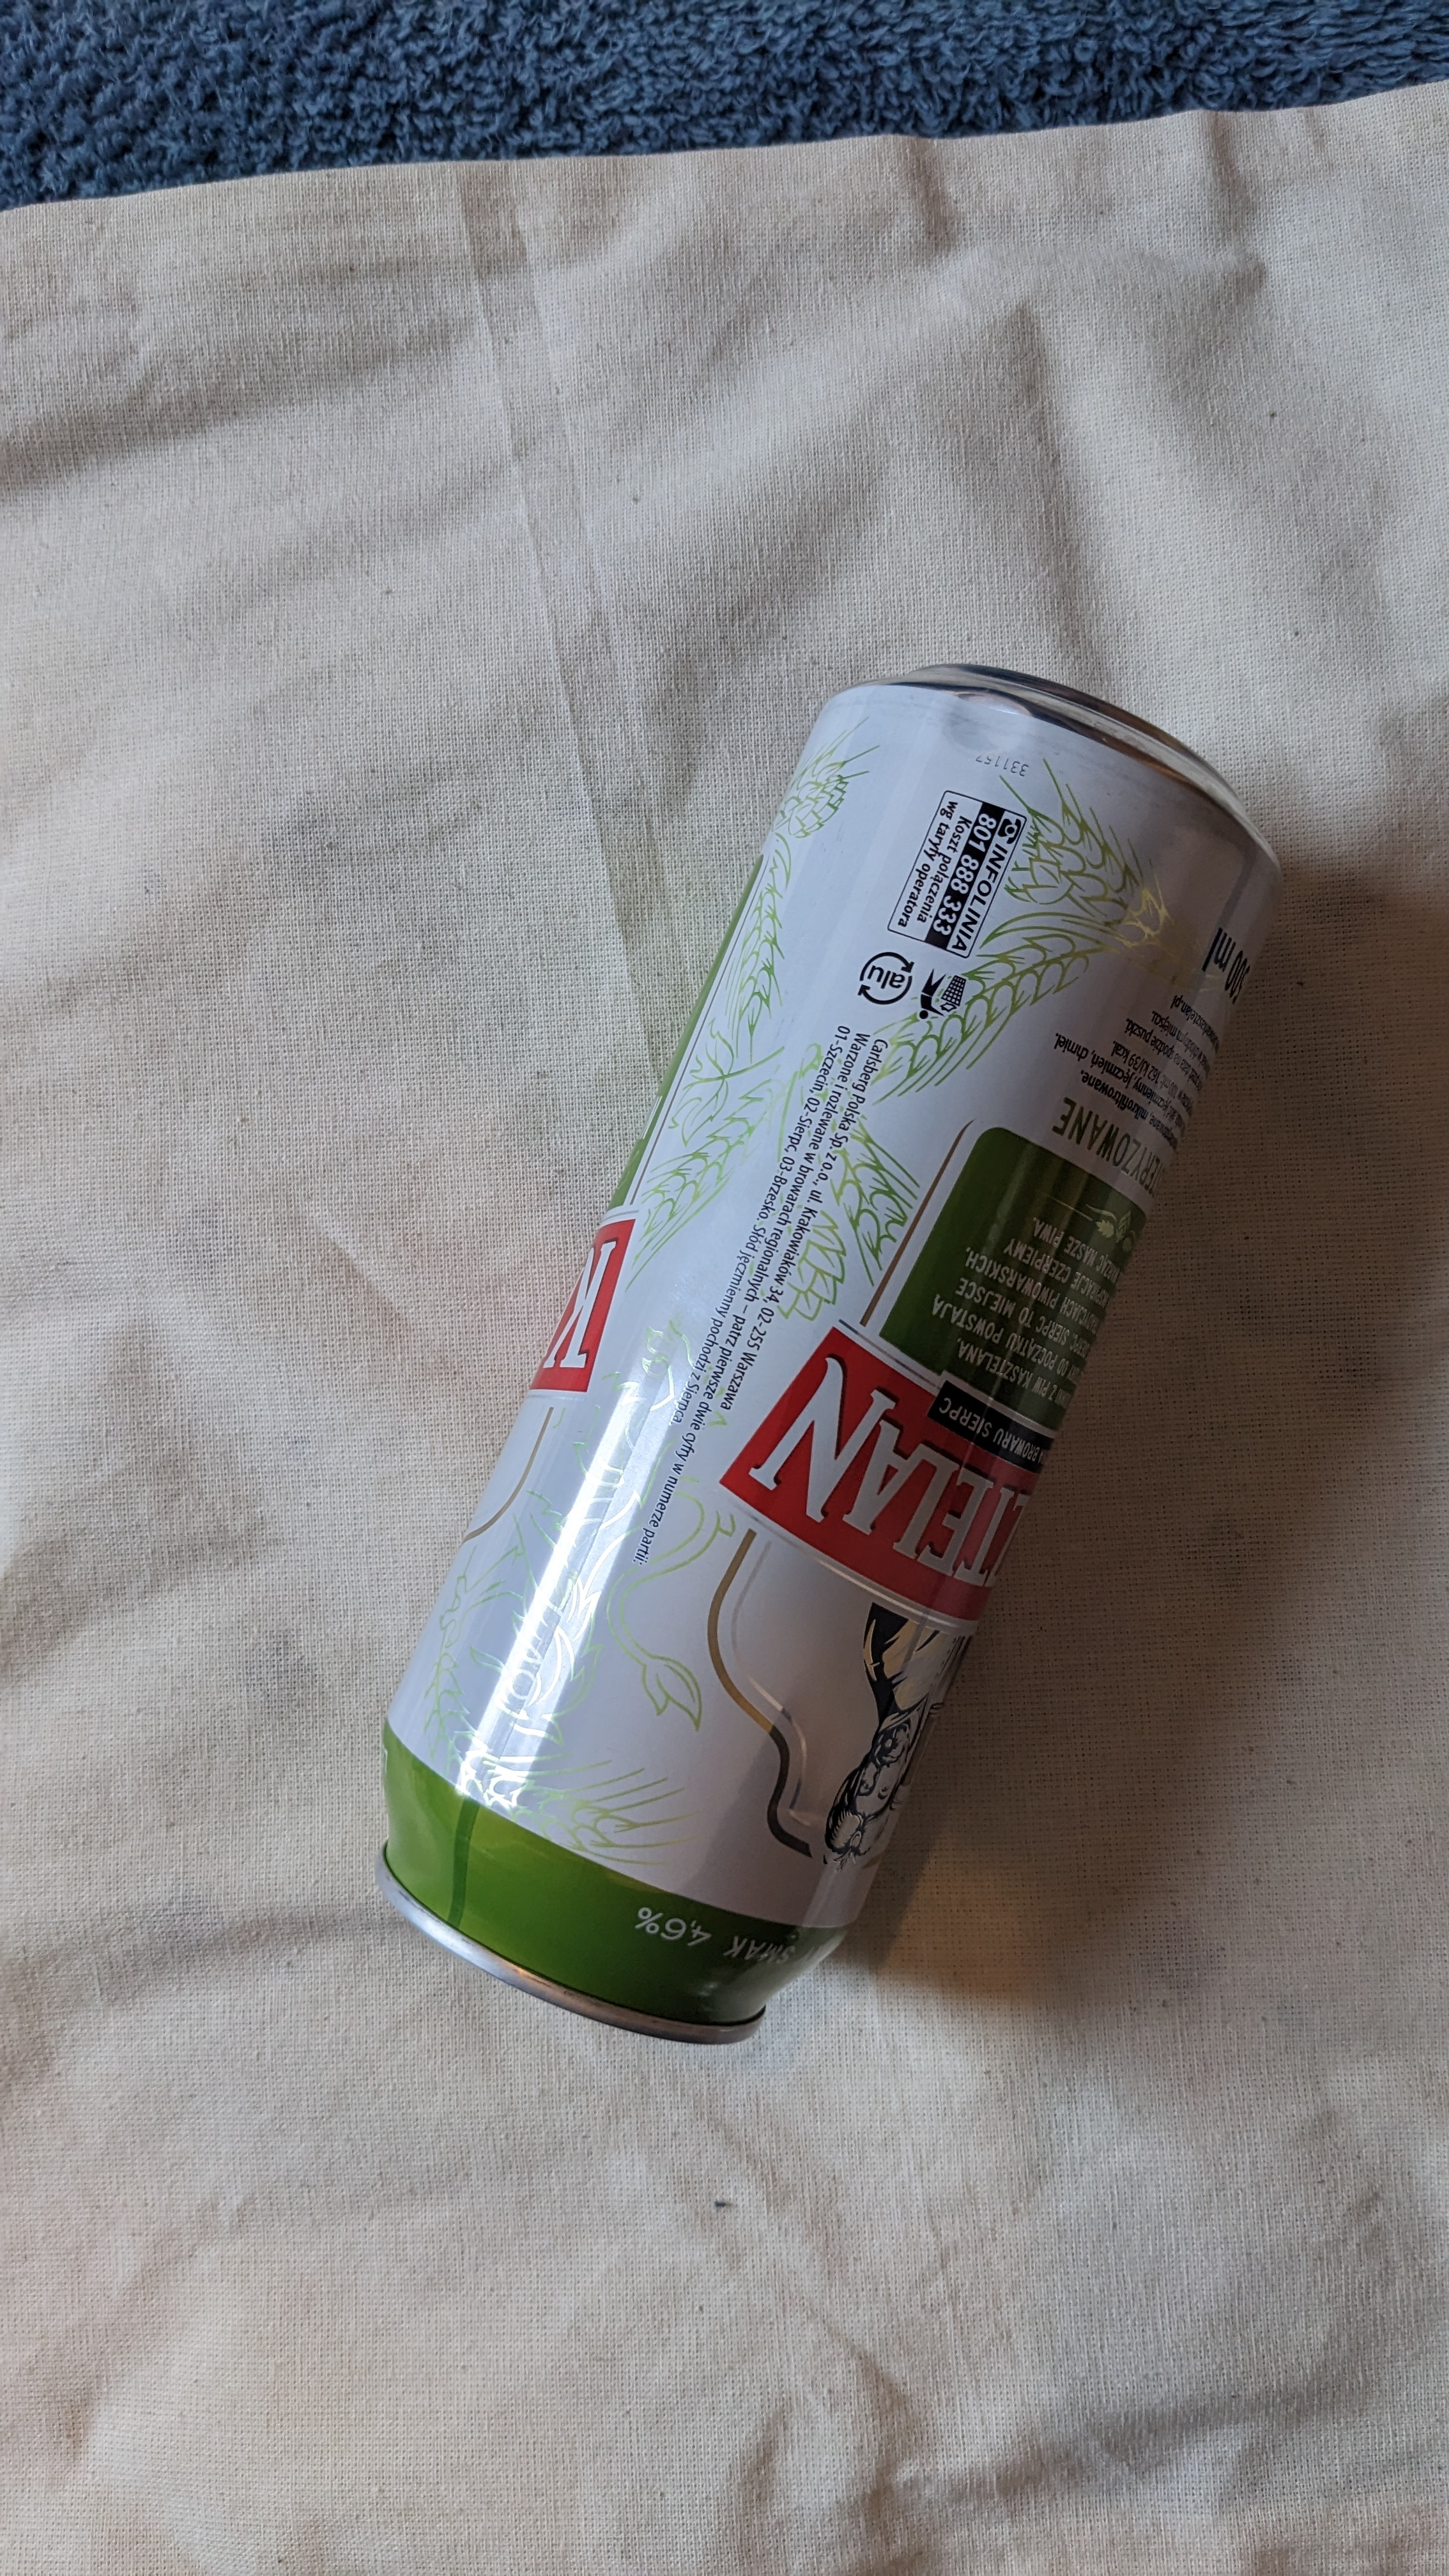kasztelan: (311, 598, 1302, 2098)
